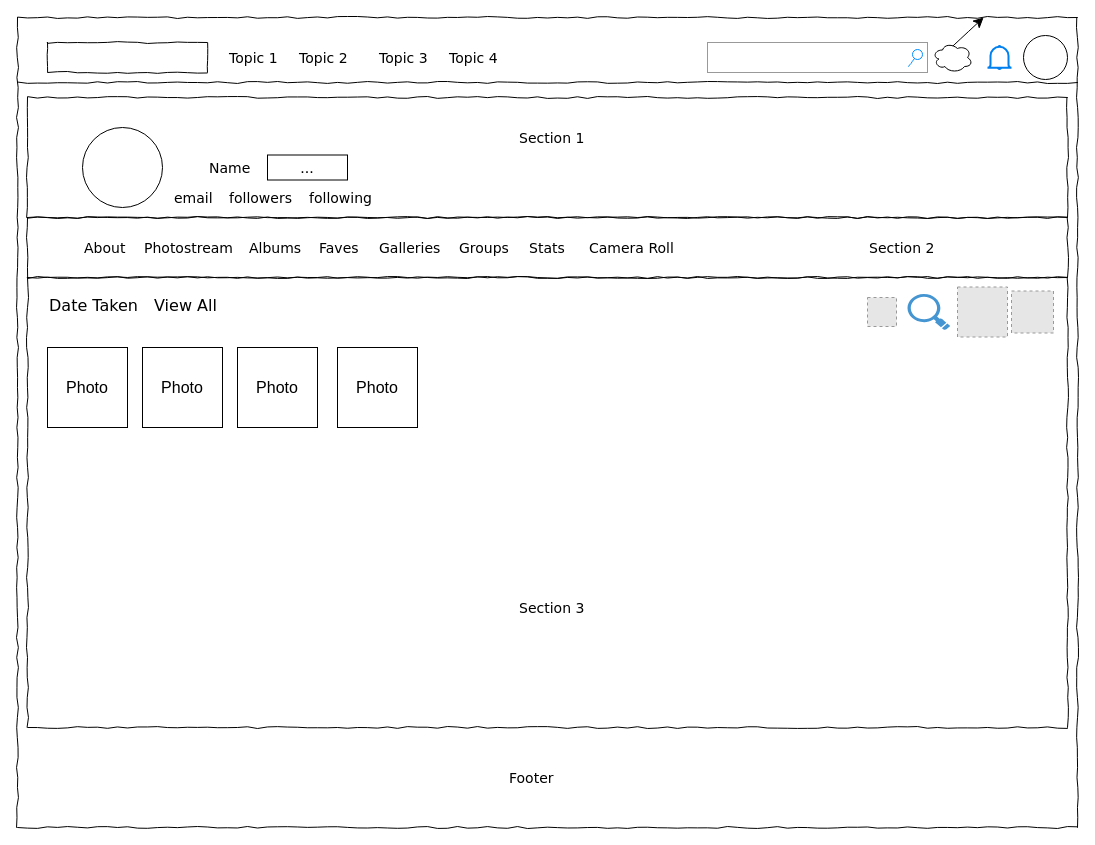
The diagram is 1095 pixels wide and 845 high, and some of its shapes have lost their labels. Grey dashed boxes stand in for pictures. The box of each missing label's shape, as (x1, y1, x2, y2) in pixels:
LOGO: (46, 42, 208, 72)
Search: (706, 42, 928, 72)
